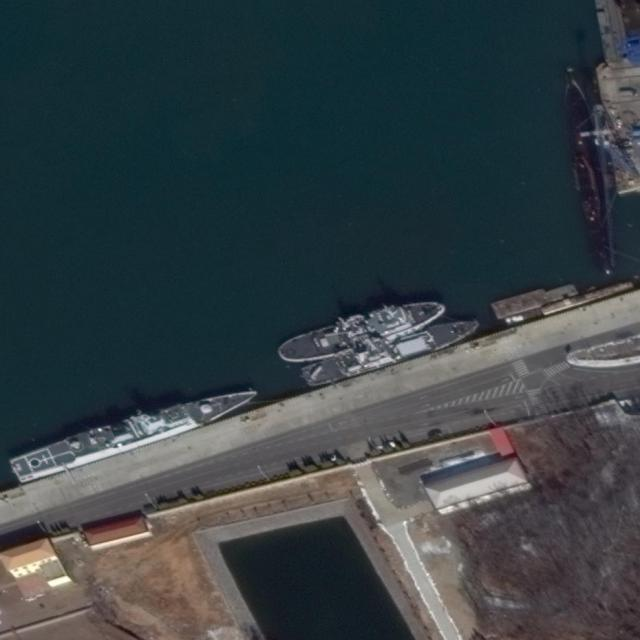Auxiliary Ships: (8, 380, 266, 483)
Other Warship: (299, 311, 483, 392), (273, 292, 448, 370)
Submarine: (551, 57, 624, 284)
